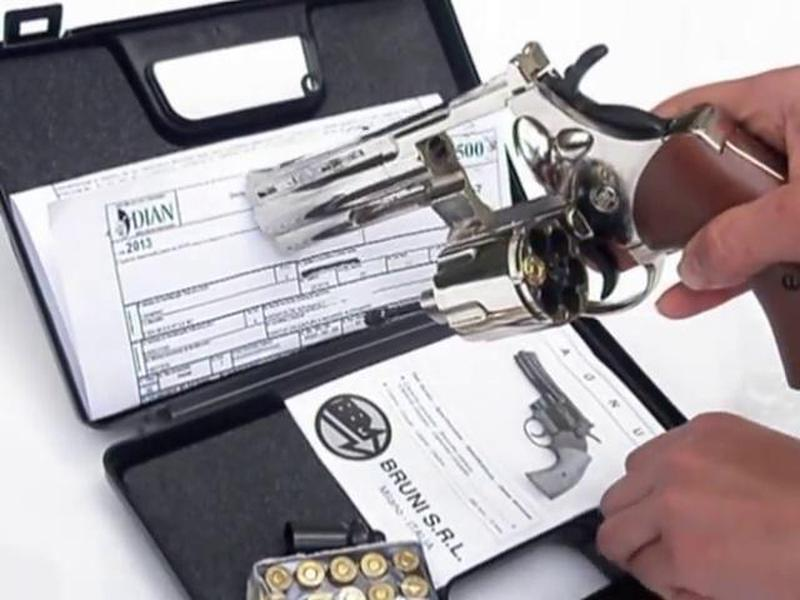Revolver: (210, 18, 800, 381)
